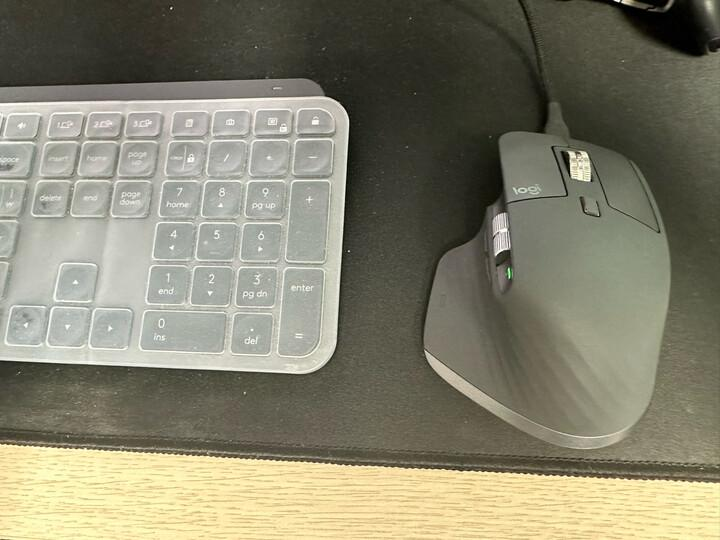keyboard: (0, 78, 349, 374)
mouse: (421, 127, 672, 450)
